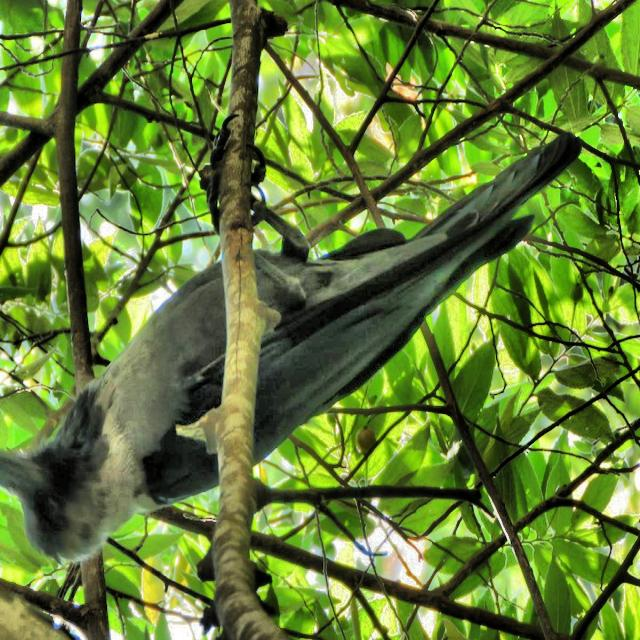crow: (1, 80, 584, 584)
